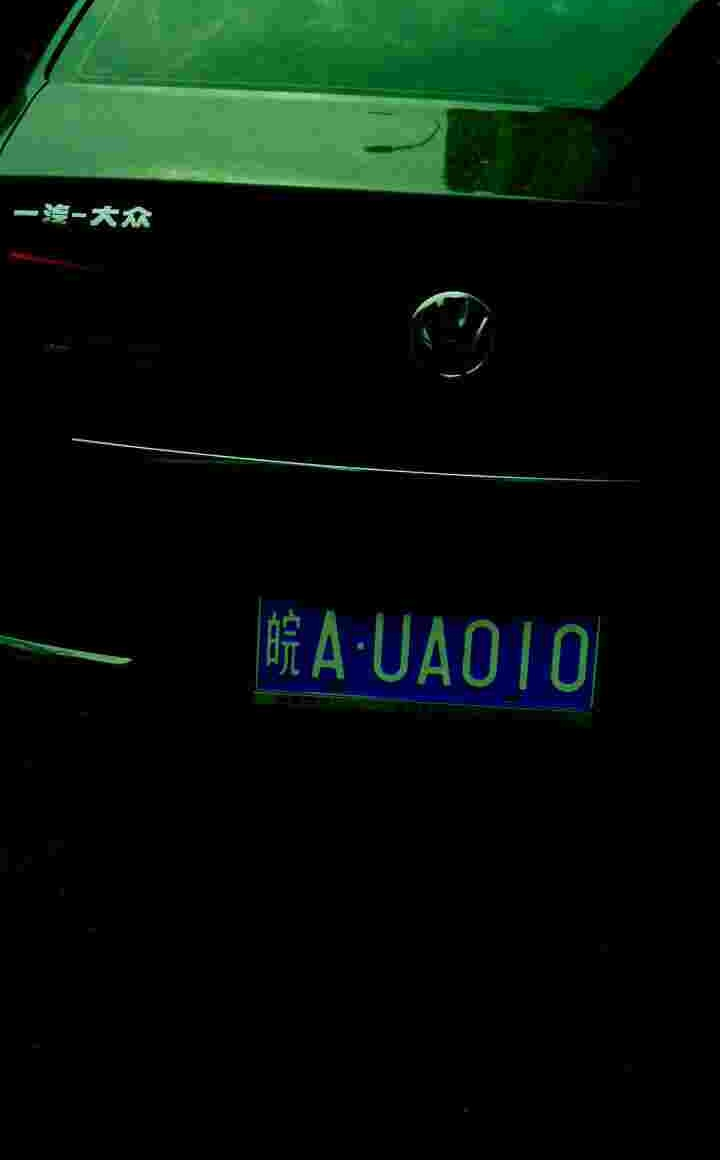license_plate: (266, 597, 605, 709)
